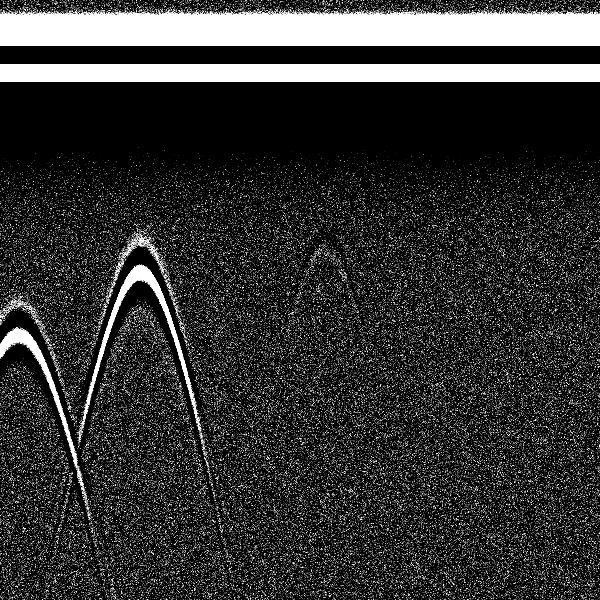pipe: (94, 6, 188, 329), (1, 5, 70, 392)
